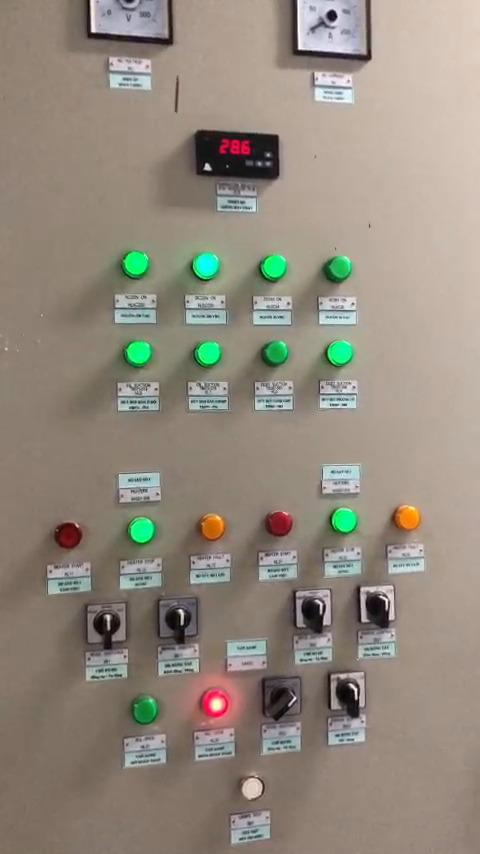led: (130, 692, 164, 725), (53, 521, 85, 551), (324, 252, 354, 283), (202, 688, 233, 718), (264, 510, 293, 540), (190, 253, 220, 281), (393, 504, 421, 534), (323, 338, 350, 368), (332, 506, 359, 536), (199, 512, 226, 542), (123, 251, 150, 280), (262, 339, 289, 368), (259, 254, 288, 280), (128, 516, 154, 545), (193, 341, 221, 366), (239, 775, 268, 799), (125, 341, 151, 366)
twist: (84, 601, 126, 646), (262, 674, 301, 719), (160, 594, 199, 638), (293, 588, 333, 629), (330, 671, 366, 714), (358, 585, 395, 625)
